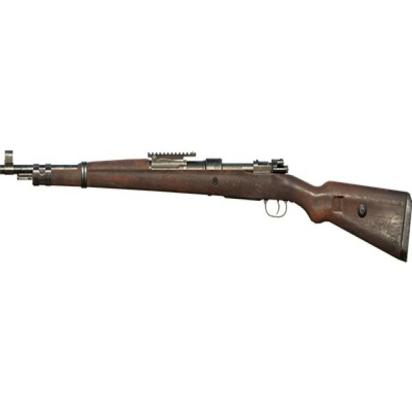Gun: (4, 144, 411, 262)
